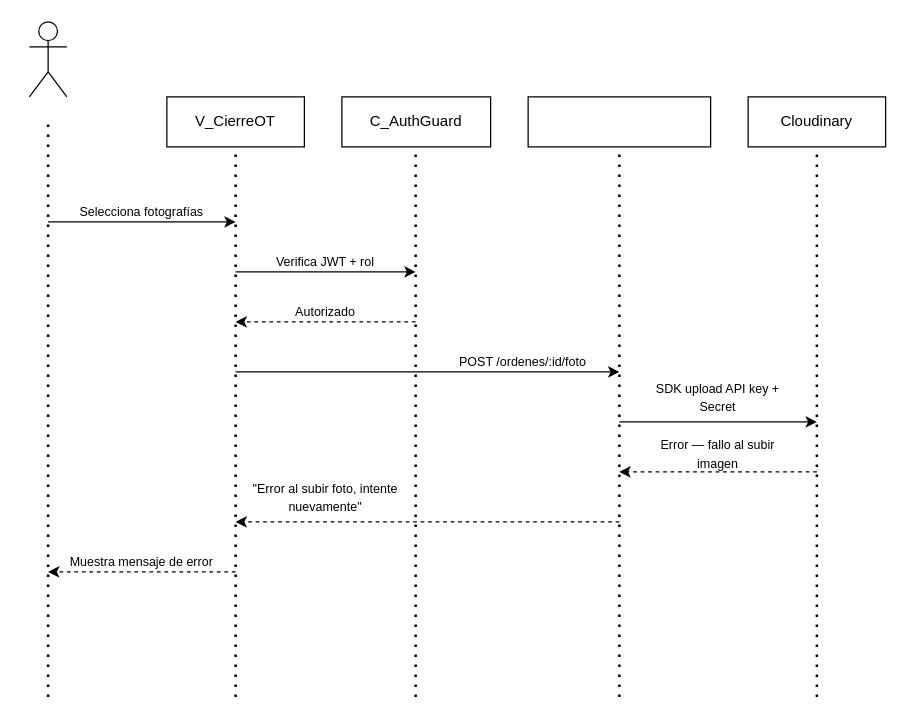
Some shapes in this 908 by 721 pixel diagram are drawn without their labels. The shapes that lost their labels are listed below. From the top down, each one's centre as x and y in pixels, then its label:
At point 47,59: "Técnico".
At point 619,121: "C_OTController".
